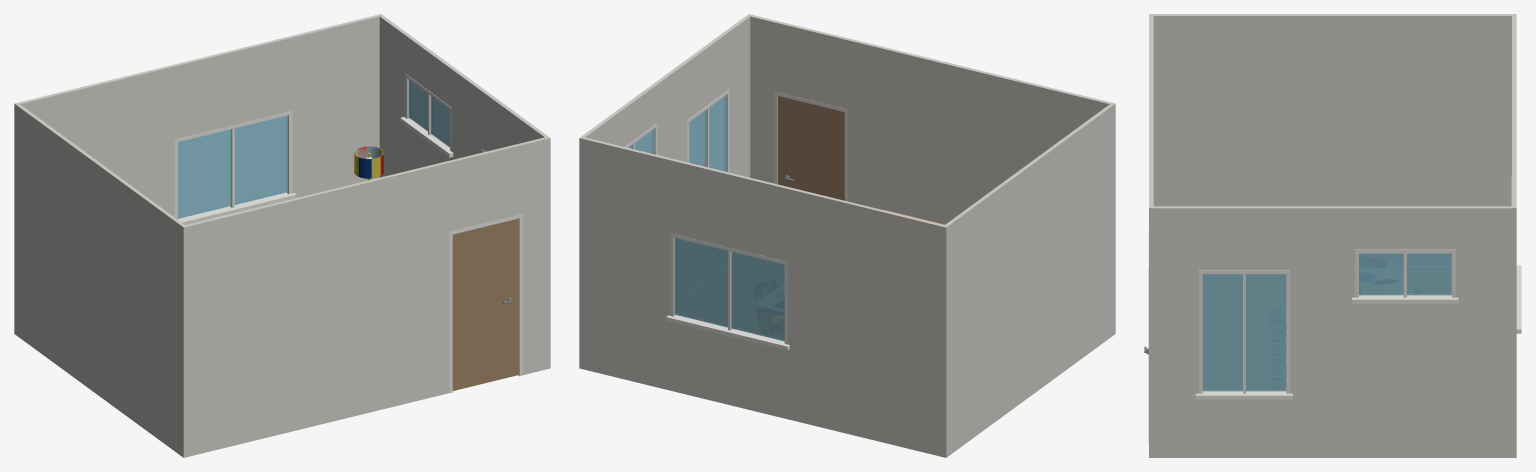
File: scenesmith.glb
3 views of the same model, side by side, from view 1: azimuth 30°, elevation 25°; view 2: azimuth 150°, elevation 25°; view 3: azimuth 270°, elevation 25° (orthographic). The views are drawn at different scales.
Visible parts, largest first — view 1: scene_179_dining_room_south_wall, scene_179_dining_room_west_wall, scene_179_dining_room_north_wall, scene_179_dining_room_east_wall, scene_179_dining_room_south_wall Door 0 | wood leaf, scene_179_dining_room_north_wall Window 0 | glazing, scene_179_dining_room_north_wall Window 0 | jamb, scene_179_dining_room_south_wall Door 0 | jamb, scene_179_dining_room_east_wall Window 0 | glazing, scene_179_dining_room_east_wall Window 0 | jamb, furniture_group; view 2: scene_179_dining_room_north_wall, scene_179_dining_room_west_wall, scene_179_dining_room_south_wall, scene_179_dining_room_east_wall, scene_179_dining_room_north_wall Window 0 | glazing, scene_179_dining_room_south_wall Door 0 | wood leaf, scene_179_dining_room_north_wall Window 0 | jamb, scene_179_dining_room_east_wall Window 0 | glazing, scene_179_dining_room_east_wall Window 0 | jamb, scene_179_dining_room_south_wall Door 0 | jamb; view 3: scene_179_dining_room_east_wall, scene_179_dining_room_west_wall, scene_179_dining_room_east_wall Window 0 | glazing, scene_179_dining_room_east_wall Window 0 | jamb, scene_179_dining_room_north_wall, scene_179_dining_room_south_wall, scene_179_dining_room_north_wall Window 0 | jamb.
Boxes of the visible parts, left/top/right/bottom form: scene_179_dining_room_south_wall: left=182, top=136, right=550, bottom=457; scene_179_dining_room_west_wall: left=14, top=104, right=186, bottom=457; scene_179_dining_room_north_wall: left=14, top=14, right=382, bottom=216; scene_179_dining_room_east_wall: left=379, top=15, right=548, bottom=177; scene_179_dining_room_south_wall Door 0 | wood leaf: left=452, top=218, right=519, bottom=390; scene_179_dining_room_north_wall Window 0 | glazing: left=178, top=115, right=287, bottom=218; scene_179_dining_room_north_wall Window 0 | jamb: left=174, top=111, right=296, bottom=224; scene_179_dining_room_south_wall Door 0 | jamb: left=449, top=214, right=522, bottom=393; scene_179_dining_room_east_wall Window 0 | glazing: left=408, top=80, right=449, bottom=147; scene_179_dining_room_east_wall Window 0 | jamb: left=400, top=74, right=485, bottom=157; furniture_group: left=354, top=146, right=383, bottom=180; scene_179_dining_room_north_wall: left=579, top=136, right=947, bottom=457; scene_179_dining_room_west_wall: left=945, top=102, right=1115, bottom=457; scene_179_dining_room_south_wall: left=747, top=14, right=1111, bottom=224; scene_179_dining_room_east_wall: left=581, top=15, right=750, bottom=177; scene_179_dining_room_north_wall Window 0 | glazing: left=674, top=238, right=784, bottom=341; scene_179_dining_room_south_wall Door 0 | wood leaf: left=778, top=96, right=844, bottom=200; scene_179_dining_room_north_wall Window 0 | jamb: left=666, top=233, right=789, bottom=350; scene_179_dining_room_east_wall Window 0 | glazing: left=628, top=95, right=726, bottom=171; scene_179_dining_room_east_wall Window 0 | jamb: left=625, top=89, right=729, bottom=172; scene_179_dining_room_south_wall Door 0 | jamb: left=774, top=91, right=847, bottom=201; scene_179_dining_room_east_wall: left=1149, top=206, right=1516, bottom=457; scene_179_dining_room_west_wall: left=1149, top=14, right=1511, bottom=206; scene_179_dining_room_east_wall Window 0 | glazing: left=1202, top=253, right=1451, bottom=391; scene_179_dining_room_east_wall Window 0 | jamb: left=1195, top=249, right=1458, bottom=399; scene_179_dining_room_north_wall: left=1512, top=14, right=1516, bottom=208; scene_179_dining_room_south_wall: left=1149, top=14, right=1153, bottom=208; scene_179_dining_room_north_wall Window 0 | jamb: left=1511, top=177, right=1521, bottom=333.
Size of the model in its own units: 5.06 by 3.01 by 4.1.
Materials: 15 (6 with a texture image).
